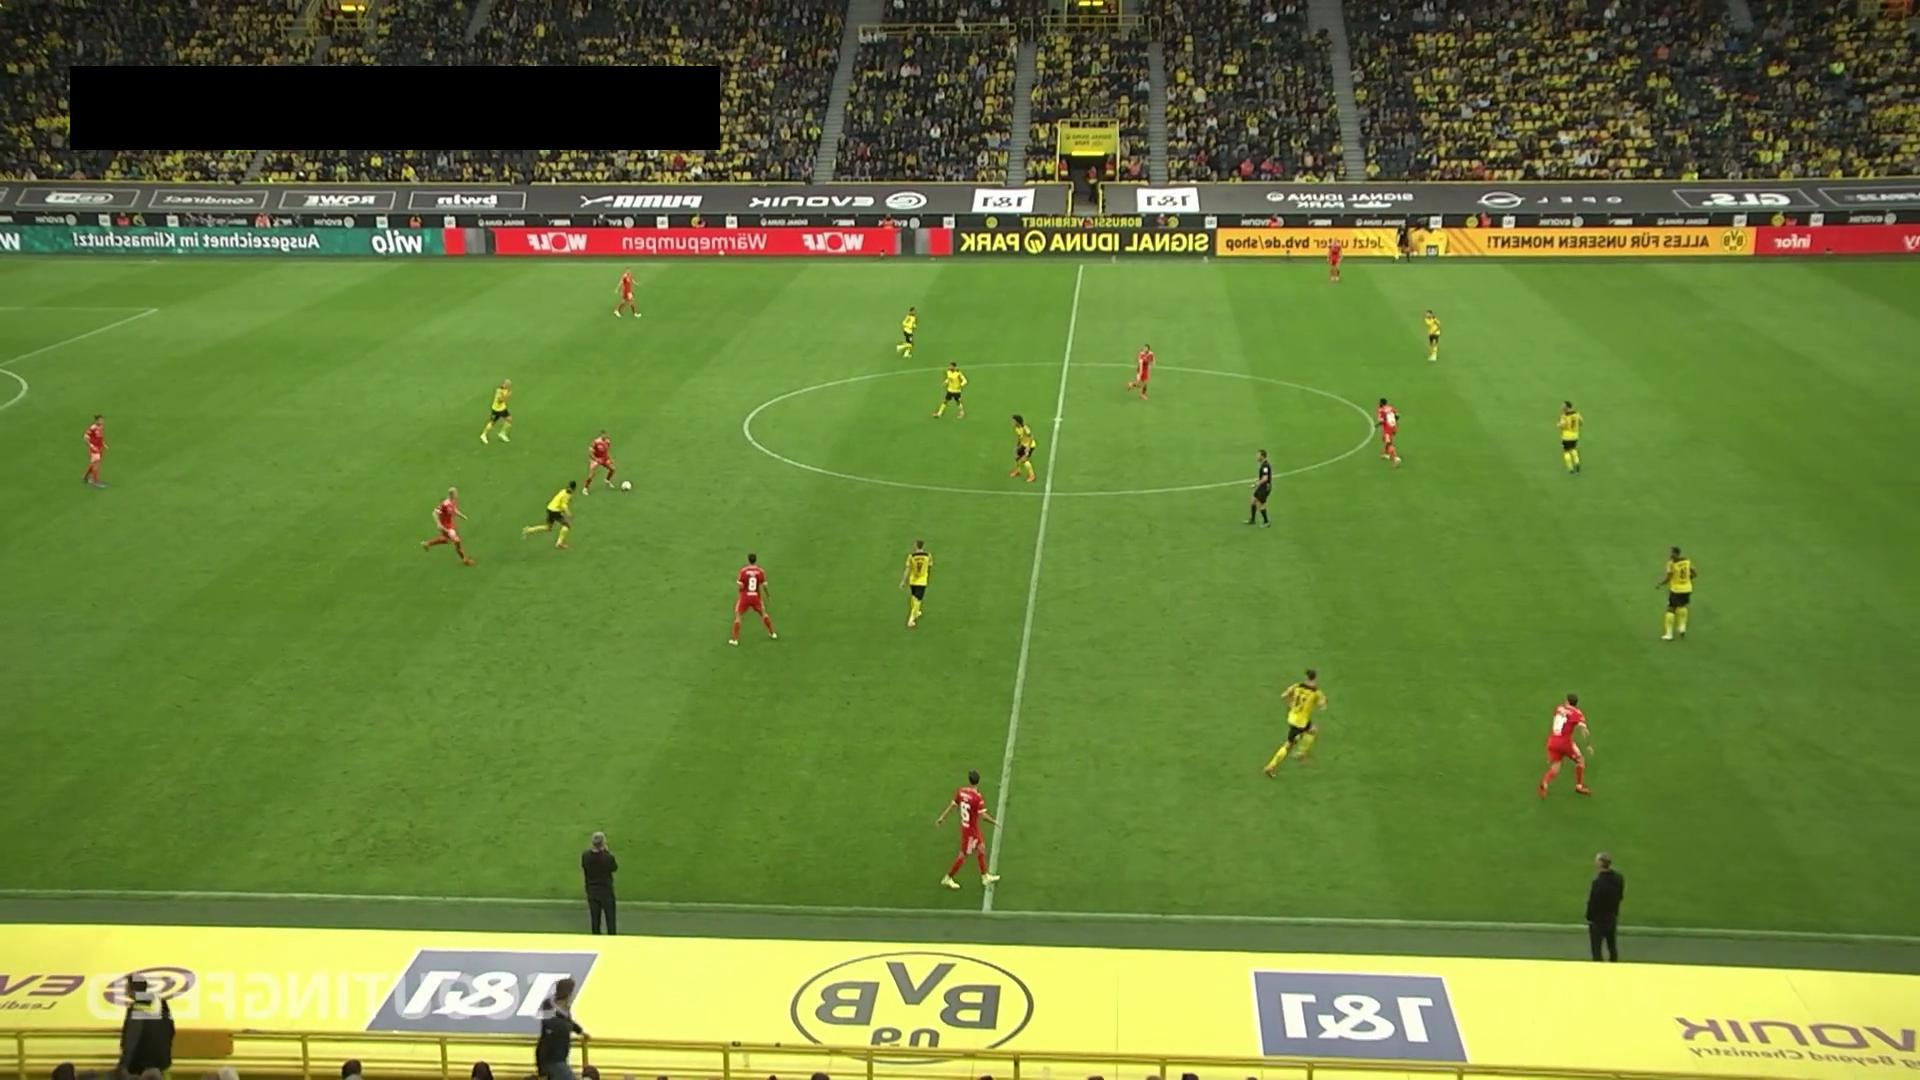ball: (620, 481, 632, 493)
player: (935, 768, 1000, 890), (1262, 667, 1328, 779), (1536, 692, 1595, 801), (728, 553, 778, 646), (420, 487, 477, 566), (1654, 545, 1698, 641), (521, 479, 577, 550), (900, 538, 933, 629), (583, 429, 617, 495), (480, 378, 513, 444), (932, 360, 968, 420), (81, 414, 109, 488), (1557, 399, 1584, 475), (1008, 414, 1037, 482), (1375, 397, 1402, 469), (1130, 342, 1156, 401), (613, 267, 641, 318), (897, 306, 918, 358), (1422, 308, 1441, 360), (1327, 239, 1343, 282)
referee: (1245, 448, 1272, 526), (1392, 219, 1412, 266)
